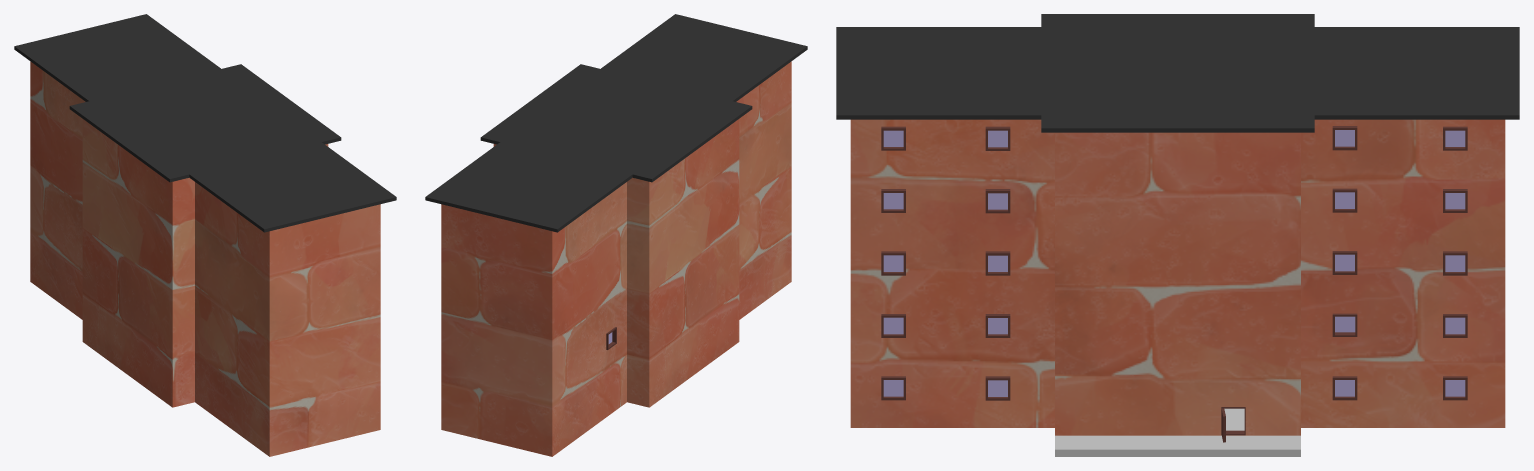
File: ApartmentNew4.fbx
3 views of the same model, side by side, from view 1: azimuth 30°, elevation 25°; view 2: azimuth 150°, elevation 25°; view 3: azimuth 270°, elevation 25° (orthographic). The views are drawn at different scales.
Visible parts, largest first — view 1: Cube, Cube.003; view 2: Cube, Cube.003; view 3: Cube, Cube.003, Cube.004, Cube.005, Cube.008, Cube.006.
Part boxes in pixels (box(x1,y1,x2,y2)): Cube: box(30, 61, 380, 456); Cube.003: box(14, 14, 396, 232); Cube: box(441, 61, 791, 456); Cube.003: box(425, 14, 807, 232); Cube: box(850, 119, 1505, 456); Cube.003: box(836, 14, 1519, 132); Cube.004: box(985, 126, 1010, 400); Cube.005: box(1443, 126, 1467, 400); Cube.008: box(881, 126, 905, 400); Cube.006: box(1332, 126, 1357, 274).
Bounding box in the file's own units: 2369 × 2871 × 5560.
